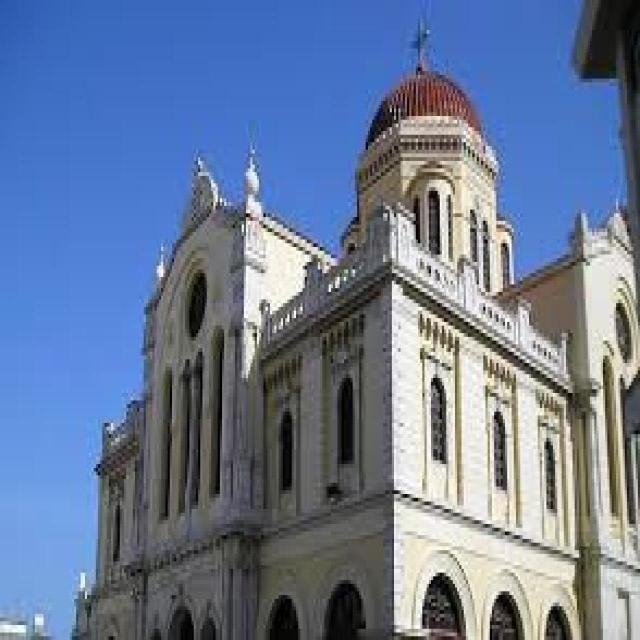Agios Minas: (80, 14, 640, 640)
